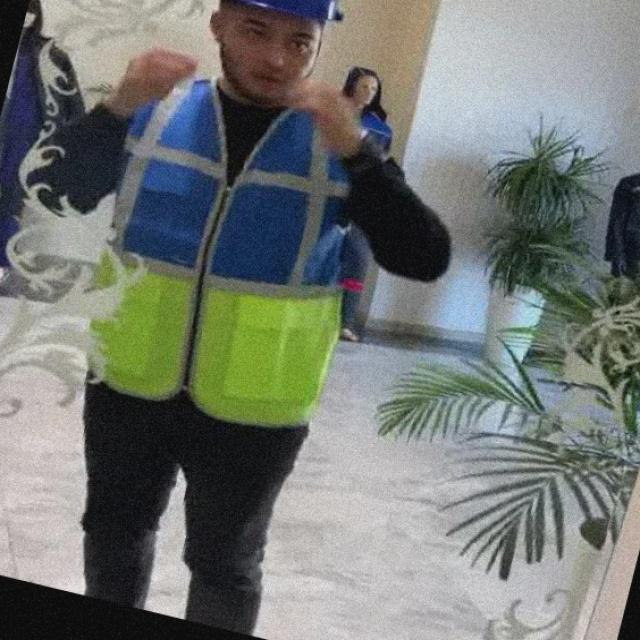Capacete: (233, 0, 343, 21)
Colete: (92, 80, 348, 425)
